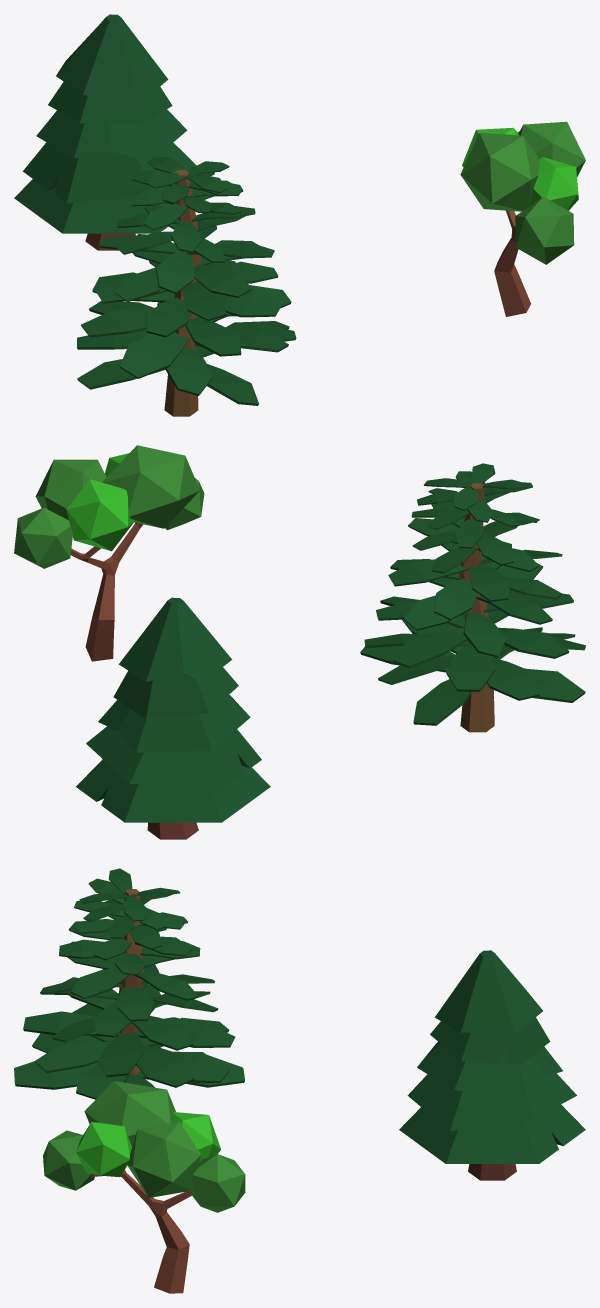
Rendered from trees.fbx.
3 renders of one model, top to bottom at view 1: azimuth 30°, elevation 25°; view 2: azimuth 150°, elevation 25°; view 3: azimuth 270°, elevation 25°, orthographic. The views are drawn at different scales.
Parts seen in each view (by area): view 1: Tree2, Tree1, Tree3; view 2: Tree2, Tree1, Tree3; view 3: Tree2, Tree1, Tree3.
Part boxes in pixels (x1,y1,x2,y2): Tree2: [77, 156, 296, 416]; Tree1: [14, 14, 196, 250]; Tree3: [460, 121, 585, 316]; Tree2: [360, 463, 585, 732]; Tree1: [76, 597, 270, 839]; Tree3: [14, 445, 204, 661]; Tree2: [14, 868, 244, 1099]; Tree1: [399, 950, 585, 1180]; Tree3: [43, 1081, 245, 1293].
Bounding box in the file's own units: 17.6 × 8 × 17.44.
